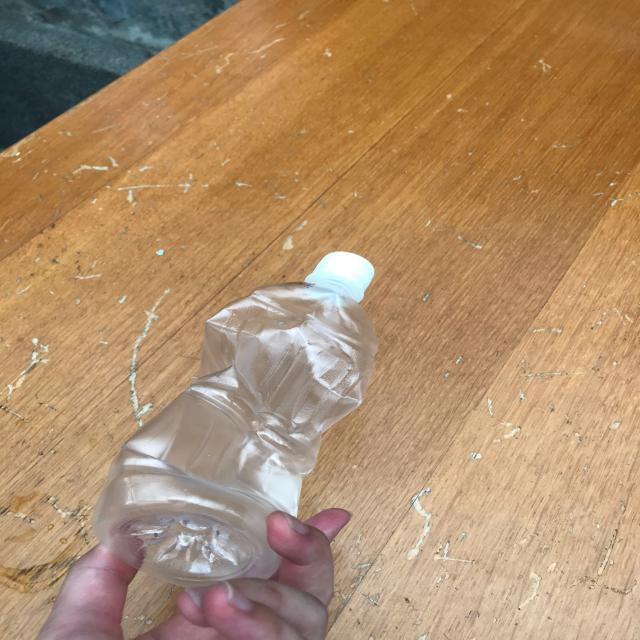plastic_bottle: (93, 252, 376, 588)
